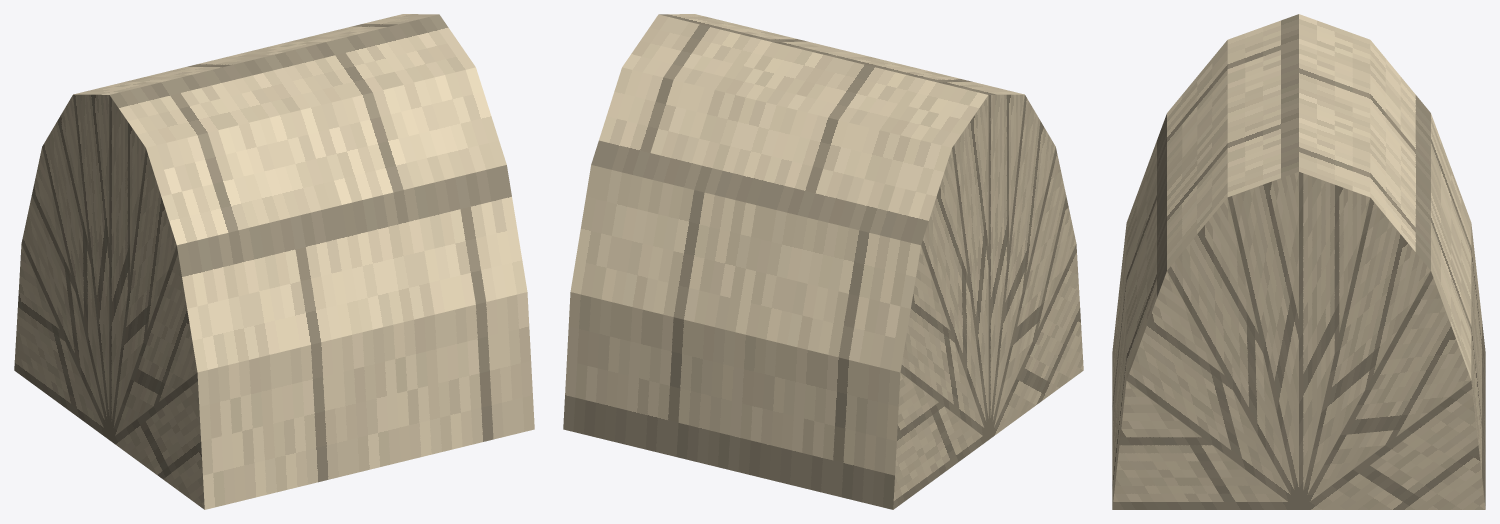
File: vault_coral_stone.glb
The picture shows the model from 3 angles, left to right: view 1: azimuth 30°, elevation 25°; view 2: azimuth 150°, elevation 25°; view 3: azimuth 270°, elevation 25°; orthographic projection. The views are drawn at different scales.
Parts seen in each view (by area): view 1: vault_coral_stone; view 2: vault_coral_stone; view 3: vault_coral_stone.
Boxes of the visible parts, x1,y1,x2,y2 form: vault_coral_stone: (14,14,534,509); vault_coral_stone: (563,14,1083,509); vault_coral_stone: (1112,14,1485,509).
Bounding box in the file's own units: 1 × 1 × 1.
Materials: 1 (1 with a texture image).
